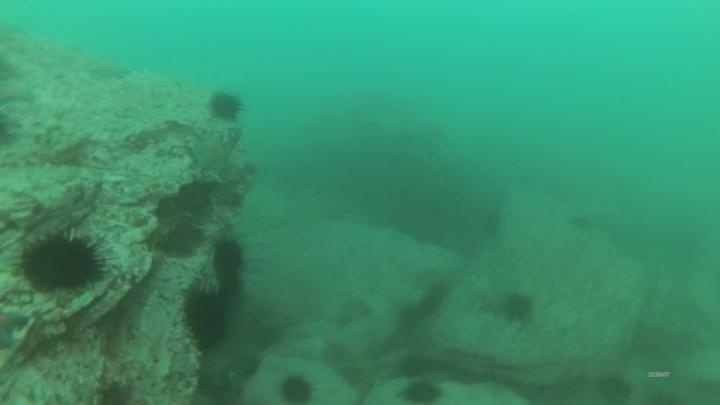echinus: (15, 226, 109, 297), (180, 286, 231, 350), (209, 235, 248, 286), (416, 278, 451, 317), (206, 89, 246, 123), (499, 290, 536, 325), (595, 371, 634, 403), (277, 373, 316, 404), (399, 378, 444, 404), (249, 322, 284, 354), (395, 351, 431, 381), (394, 302, 425, 334)
starfish: (187, 129, 233, 176), (0, 305, 33, 352), (84, 56, 132, 83), (0, 77, 40, 108)
